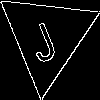J: (22, 12, 61, 65)
